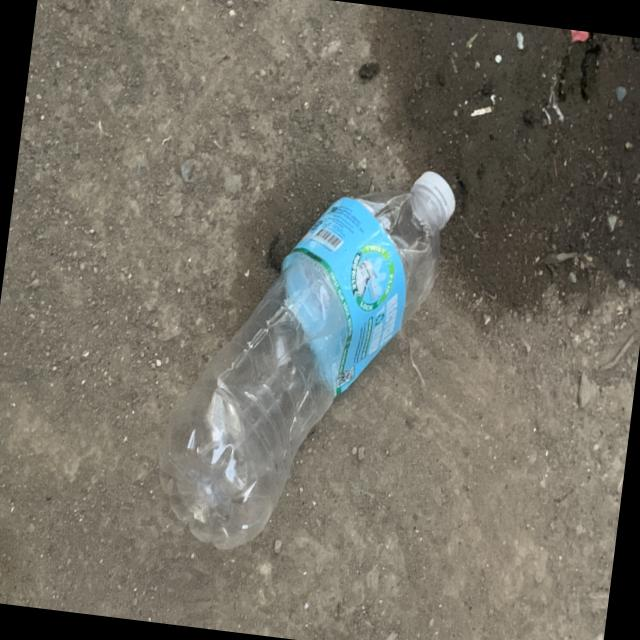Bottle: (159, 170, 455, 548)
